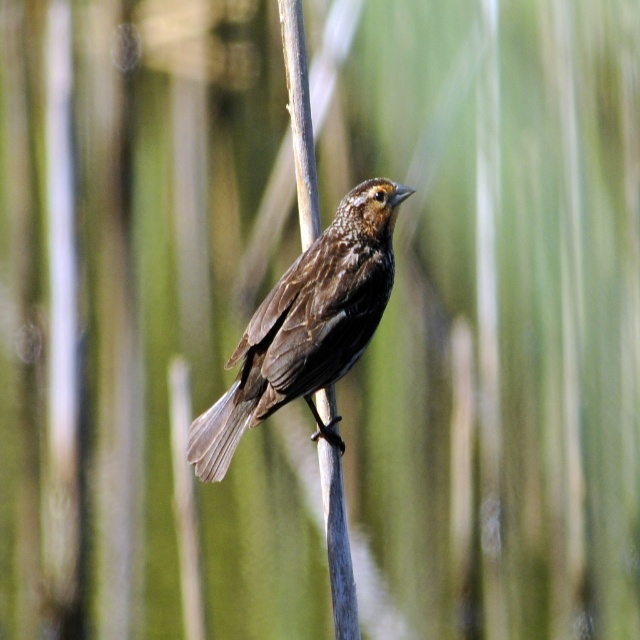Sparrow: (183, 177, 414, 482)
